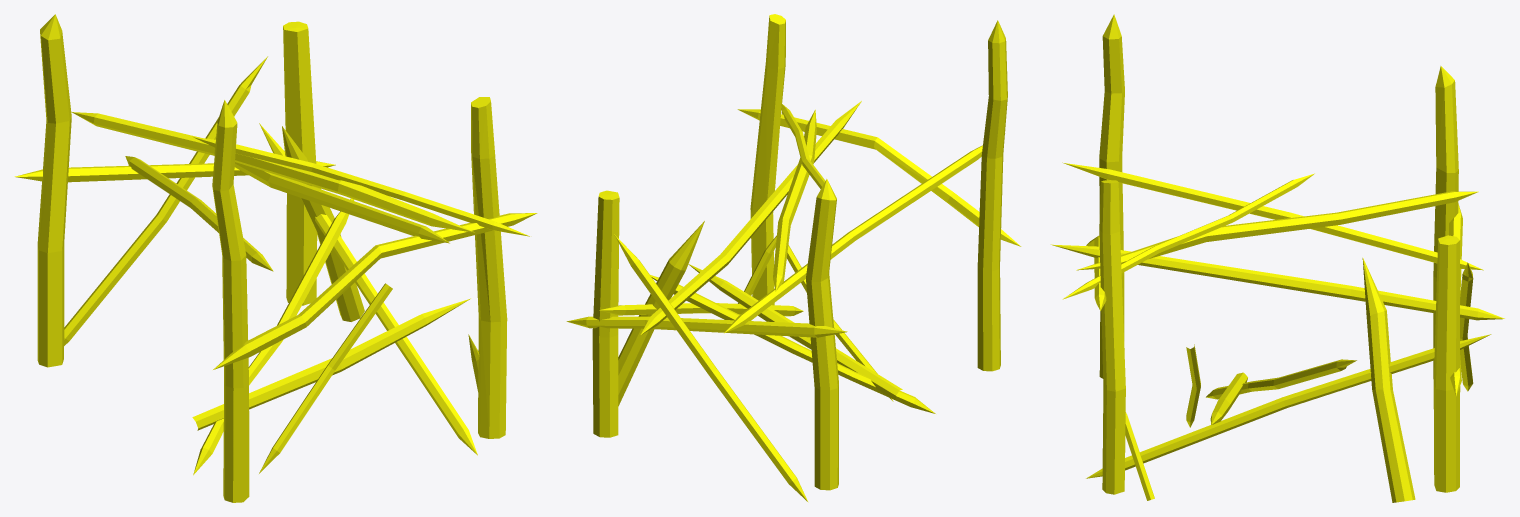
Rendered from gaint_buildb_04_d.glb.
The picture shows the model from 3 angles, left to right: view 1: azimuth 30°, elevation 25°; view 2: azimuth 150°, elevation 25°; view 3: azimuth 270°, elevation 25°; orthographic projection. The views are drawn at different scales.
Visible parts, largest first — view 1: Object05; view 2: Object05; view 3: Object05.
Boxes of the visible parts, left/top/right/bottom form: Object05: left=14, top=14, right=537, bottom=502; Object05: left=566, top=14, right=1021, bottom=502; Object05: left=1051, top=14, right=1504, bottom=502.
Size of the model in its own units: 7.22 by 9 by 9.76.
2 materials, 2 textured.
